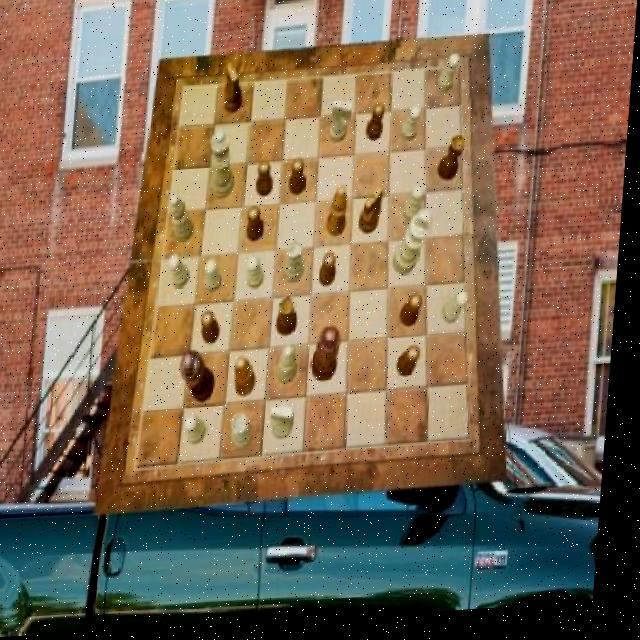bishop: (329, 191, 352, 242), (239, 361, 263, 402)
black-bishop: (184, 352, 223, 407)
black-king: (362, 191, 388, 239), (225, 65, 247, 117)
black-knight: (404, 298, 429, 333), (401, 350, 426, 382), (205, 313, 227, 348), (368, 108, 387, 146), (250, 208, 269, 245), (292, 162, 311, 199), (258, 165, 277, 201), (324, 256, 343, 291)
black-pawn: (317, 331, 347, 386)
black-queen: (440, 141, 469, 188), (281, 299, 304, 340)
black-rook: (171, 196, 200, 245), (281, 348, 304, 388)
white-bishop: (396, 214, 437, 281)
white-king: (330, 103, 355, 148), (276, 408, 302, 444)
white-knight: (447, 296, 474, 331), (407, 190, 429, 229), (439, 60, 461, 99), (172, 255, 196, 290), (190, 416, 215, 448), (403, 111, 425, 146), (208, 263, 228, 297), (250, 259, 269, 294)
white-pawn: (211, 131, 242, 202)
white-queen: (288, 243, 311, 286), (238, 416, 262, 453)
